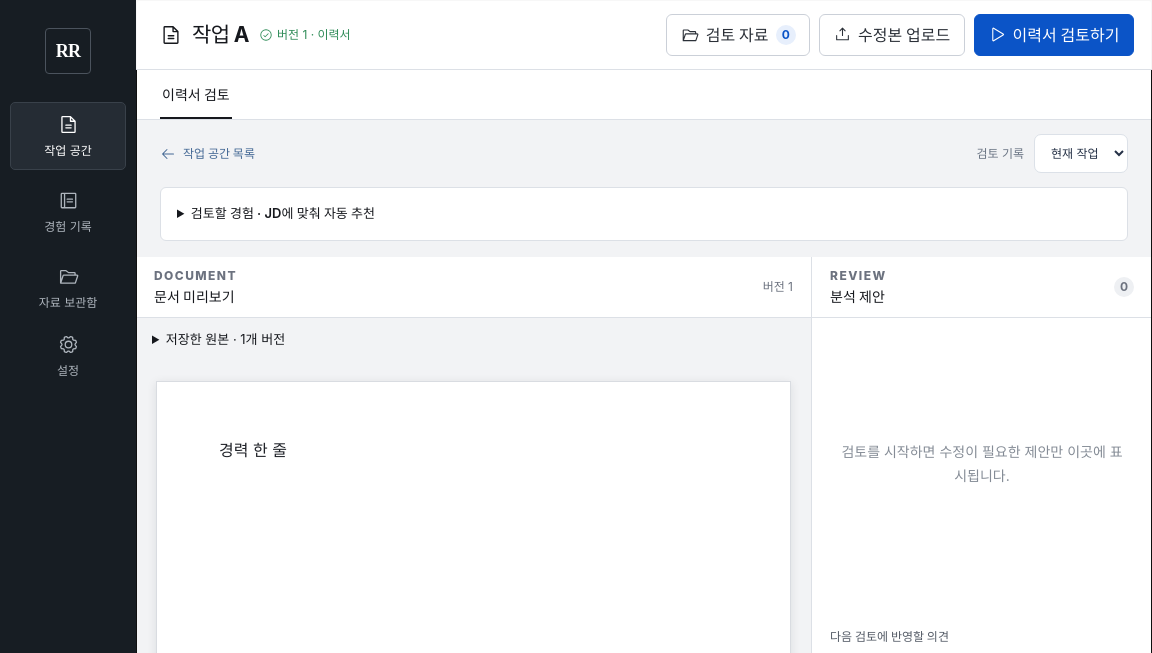
Scenario: keeps the run and server result when saving fails
The image size is (1152, 653).
What coordinates should you click on to do the following:
click the button "이력서 검토하기"
I would click on:
 (1054, 34)
Its box is x1=974 y1=14 x2=1134 y2=56.
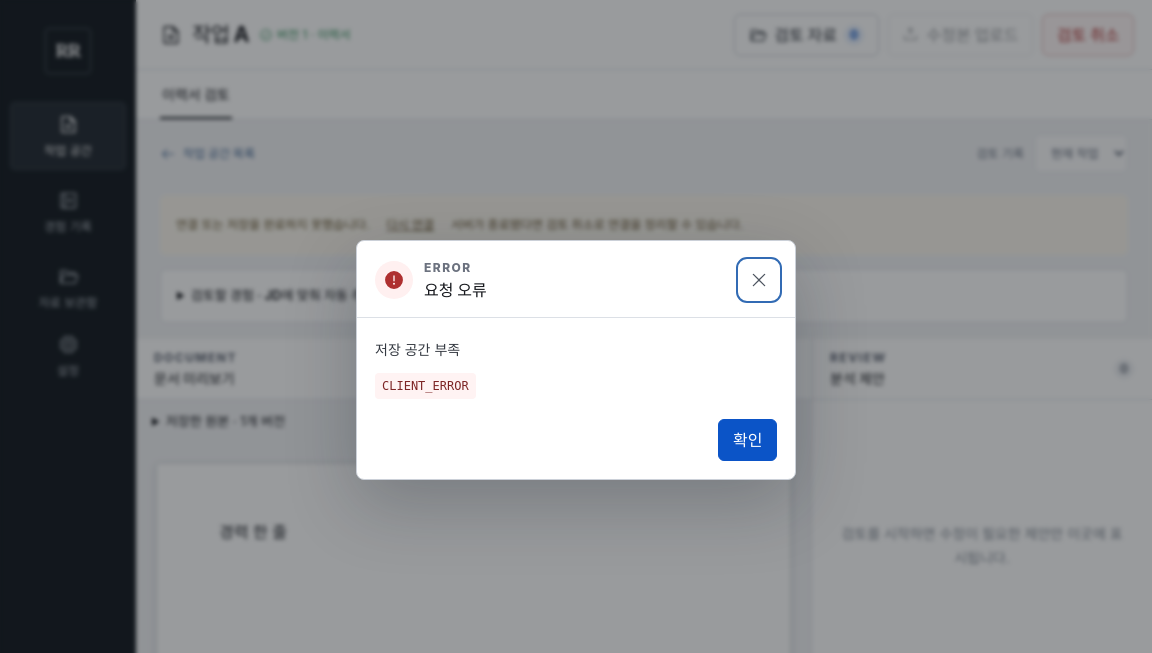
Expected: the message reads "저장 공간 부족", x1=375 y1=341 x2=460 y2=358
